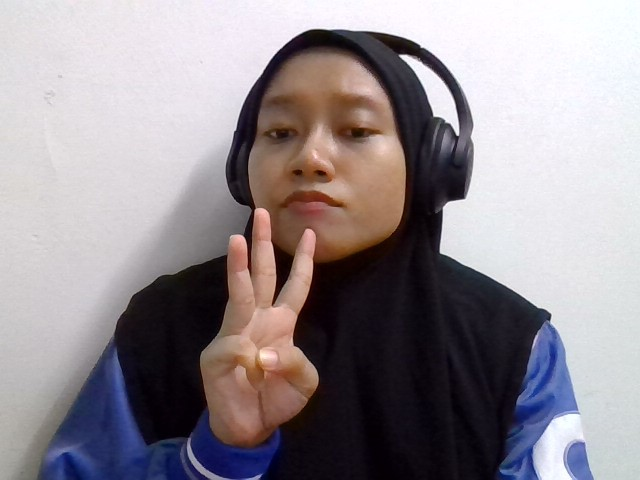Selangor: (199, 188, 347, 437)
